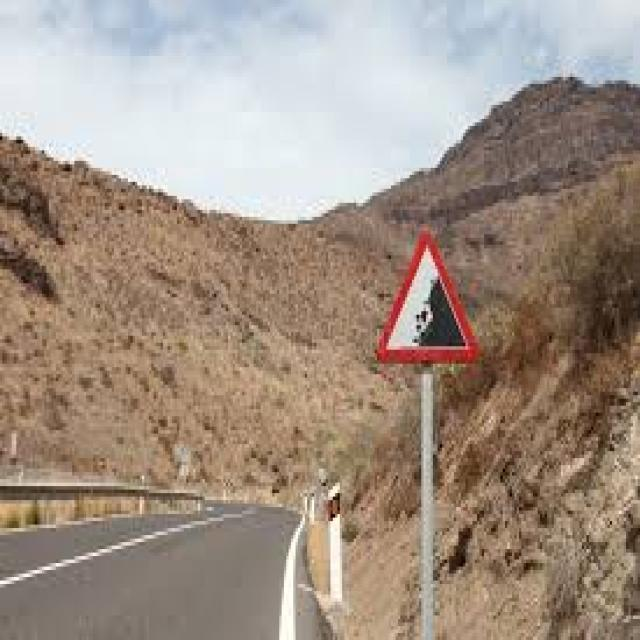falling rocks: (365, 219, 487, 370)
